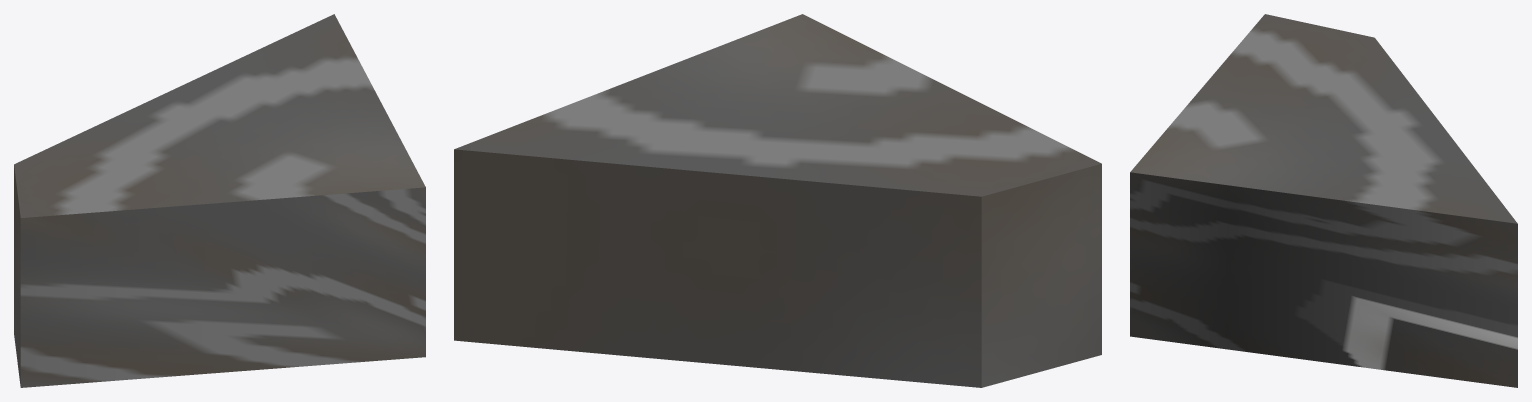
Rendered from ishi_01.fbx.
The picture shows the model from 3 angles, left to right: view 1: azimuth 30°, elevation 25°; view 2: azimuth 150°, elevation 25°; view 3: azimuth 270°, elevation 25°; orthographic projection. The views are drawn at different scales.
Parts seen in each view (by area): view 1: ishi_01; view 2: ishi_01; view 3: ishi_01.
Part boxes in pixels (bbox=[...]): ishi_01: bbox=[14, 14, 425, 387]; ishi_01: bbox=[454, 14, 1101, 387]; ishi_01: bbox=[1130, 14, 1517, 387].
Size of the model in its own units: 12.76 by 4.66 by 9.97.
Materials: 1 (1 with a texture image).
